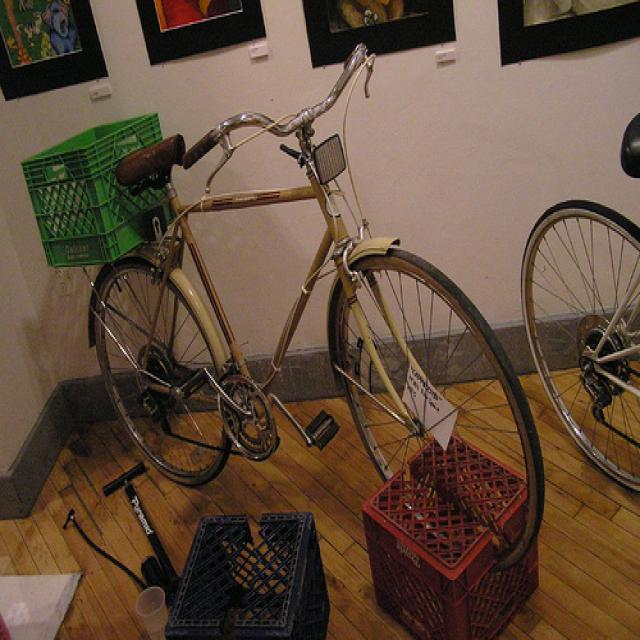bicycle: (28, 39, 532, 571), (523, 109, 640, 499)
